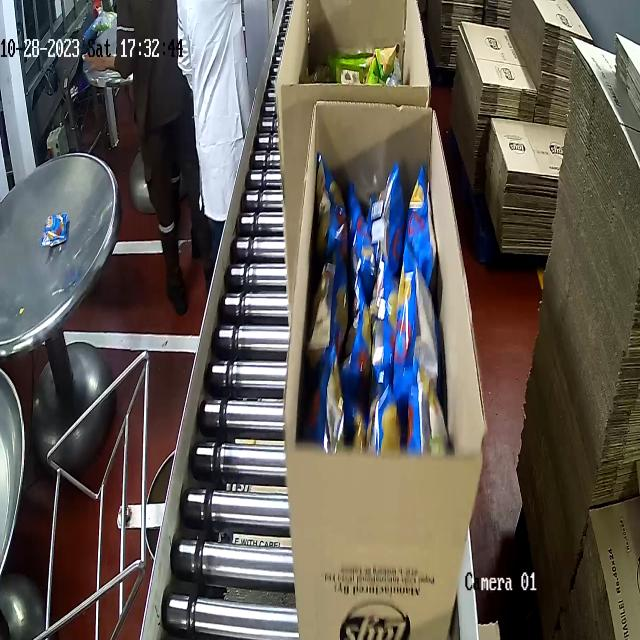PAPRIKA: (309, 172, 451, 450)
